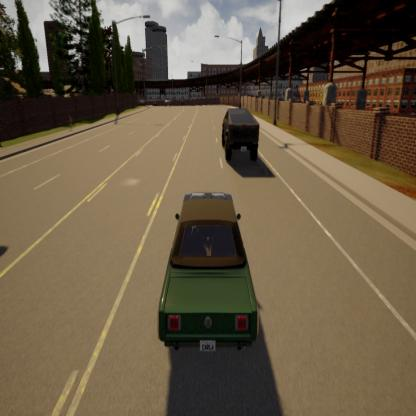Cars: (153, 181, 267, 362), (217, 102, 264, 166)
Pedestrian: (65, 111, 77, 133)
